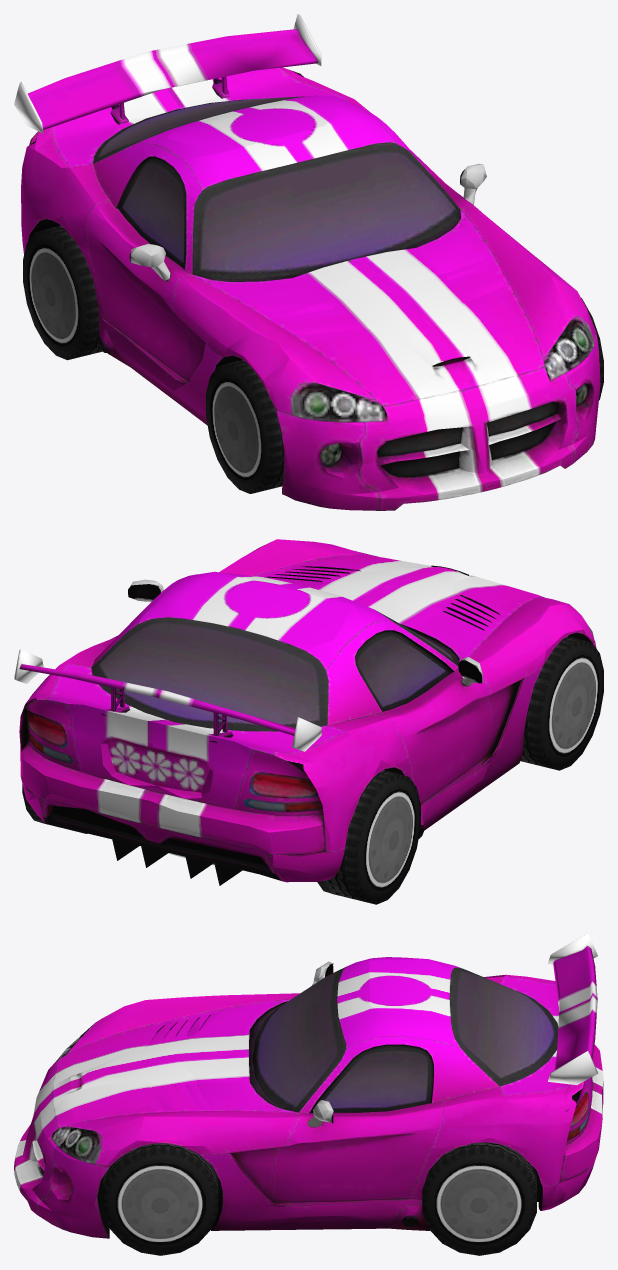
Rendered from Car 7.glb.
The picture shows the model from 3 angles, top to bottom: view 1: azimuth 30°, elevation 25°; view 2: azimuth 150°, elevation 25°; view 3: azimuth 270°, elevation 25°; orthographic projection. The views are drawn at different scales.
Parts seen in each view (by area): view 1: carBody_low_019, carBody_low_020, tireFrontL_low_020, tireBackL_low_019; view 2: carBody_low_019, tireBackL_low_019, tireFrontL_low_020, carBody_low_020; view 3: carBody_low_019, tireFrontL_low_019, tireBackL_low_018, carBody_low_020.
Part boxes in pixels (x1,y1,x2,y2): carBody_low_019: (21,67,600,510); carBody_low_020: (14,14,321,133); tireFrontL_low_020: (206,360,283,493); tireBackL_low_019: (23,225,102,360); carBody_low_019: (19,539,596,885); tireBackL_low_019: (317,770,420,904); tireFrontL_low_020: (520,636,603,770); carBody_low_020: (14,649,321,751); carBody_low_019: (14,957,603,1238); tireFrontL_low_019: (103,1143,218,1255); tireBackL_low_018: (422,1142,536,1255); carBody_low_020: (548,933,597,1084).
Size of the model in its own units: 0.6945 by 0.4252 by 1.15.
4 materials, 3 textured.
